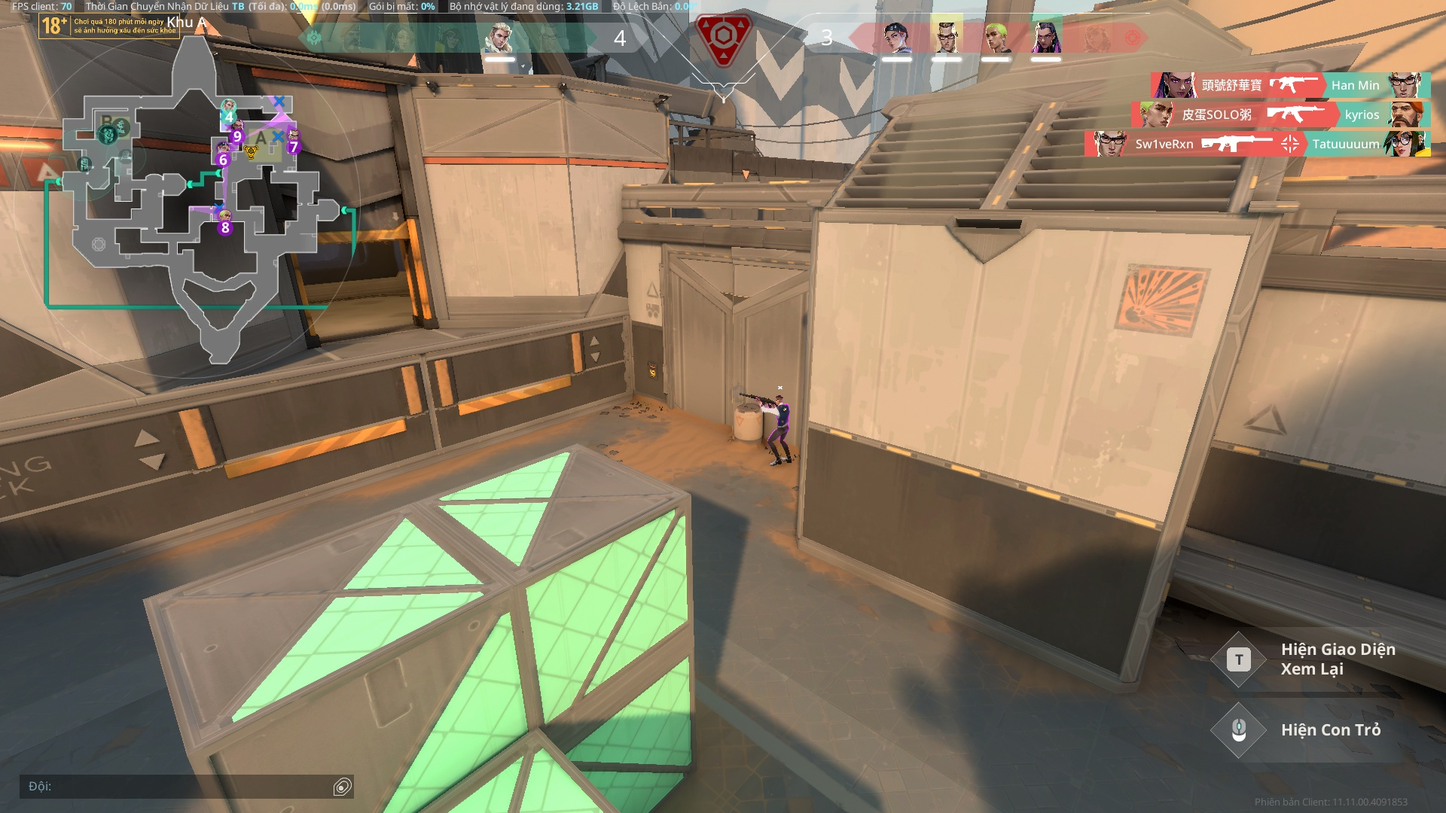body: (773, 403, 793, 427)
head: (774, 394, 782, 405)
